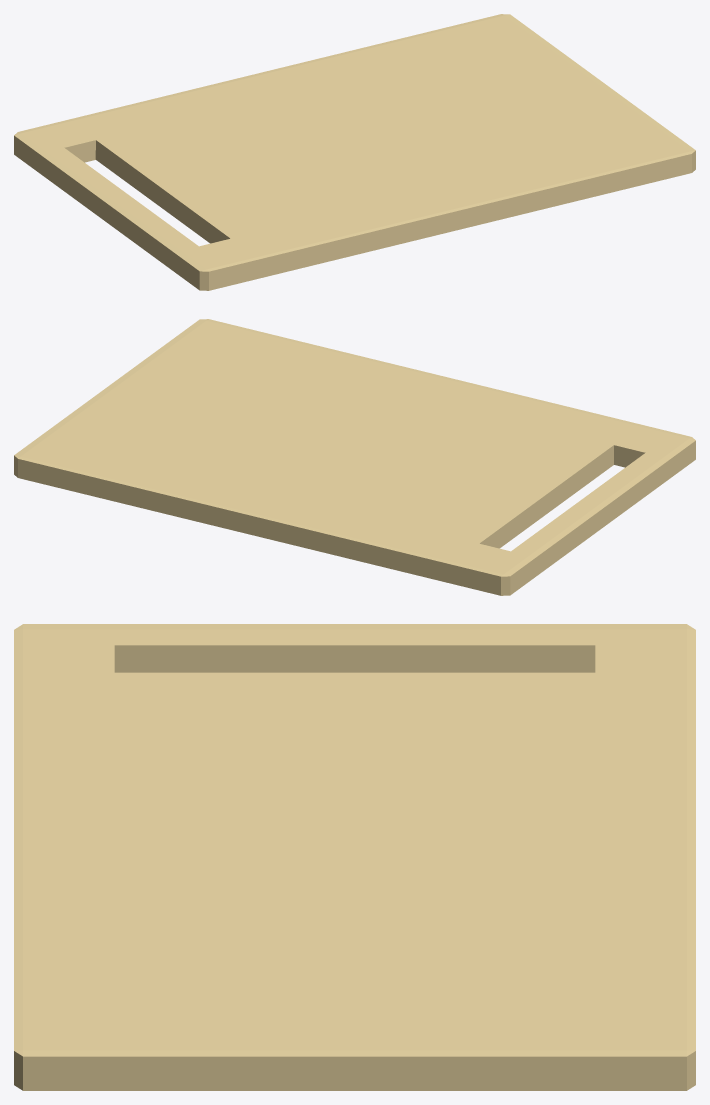
Rendered from cutting_board.glb.
3 views of the same model, one above another, from view 1: azimuth 30°, elevation 25°; view 2: azimuth 150°, elevation 25°; view 3: azimuth 270°, elevation 25° (orthographic). The views are drawn at different scales.
Parts seen in each view (by area): view 1: Cutting_Board; view 2: Cutting_Board; view 3: Cutting_Board.
Part boxes in pixels (x1,y1,x2,y2): Cutting_Board: [14, 14, 695, 290]; Cutting_Board: [14, 319, 695, 595]; Cutting_Board: [14, 624, 695, 1090].
Size of the model in its own units: 0.759 by 0.0289 by 0.5058.
